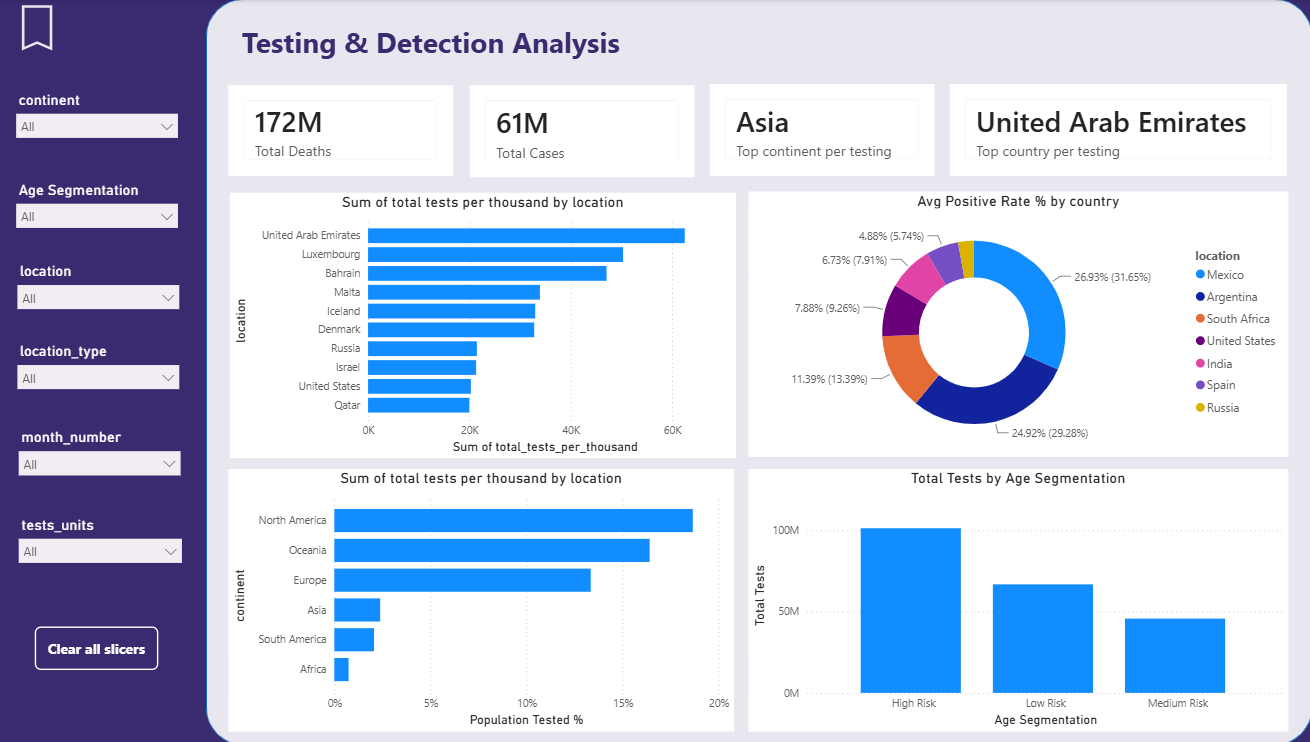

The dashboard page shown, as its layout file describes it:
{"tool":"powerbi","page":{"name":"Testing Analysis ","canvas":[1500,850],"ordinal":4},"visuals":[{"type":"shape","box":[239.3,0,1260.5,850.3],"z":0},{"type":"actionButton","box":[15.7,0,132.5,65.5],"z":1000},{"type":"cardVisual","fields":{"Data":["fact_corona.Total Cases"]},"box":[540.3,98.1,255.7,104.5],"z":2000},{"type":"cardVisual","fields":{"Data":["fact_corona.Total Deaths"]},"box":[265.3,98.1,255.7,102.9],"z":3000},{"type":"textbox","box":[266.2,23.3,458.2,62.5],"z":4000},{"type":"clusteredBarChart","title":"Sum of total tests per thousand by location","fields":{"Category":["dim_country.location"],"Y":["Sum(fact_corona.total_tests_per_thousand)"]},"box":[265.9,220.7,576.9,302.4],"z":5000},{"type":"actionButton","box":[44.2,715,141,49.8],"z":6000},{"type":"donutChart","title":"Avg Positive Rate % by country","fields":{"Category":["dim_country.location"],"Y":["fact_corona.Avg Positive Rate %"]},"box":[856.7,219,615.2,302.4],"z":7000},{"type":"columnChart","fields":{"Category":["dim_demographics.Age Segmentation"],"Y":["fact_corona.Total Tests"]},"box":[857.5,535.4,614.9,299.1],"z":8000},{"type":"cardVisual","fields":{"Data":["dim_country.Top Country"]},"box":[813.7,96.5,255.7,104.5],"z":9000},{"type":"cardVisual","fields":{"Data":["dim_country.Top country"]},"box":[1087.1,96.5,384.3,104.5],"z":10000},{"type":"slicer","fields":{"Values":["dim_country.continent"]},"box":[12.9,99.7,204.2,77.2],"z":11000},{"type":"slicer","fields":{"Values":["dim_demographics.Age Segmentation"]},"box":[12.9,202.6,204.2,77.2],"z":12000},{"type":"slicer","fields":{"Values":["dim_country.location"]},"box":[14.5,294.3,204.2,77.2],"z":13000},{"type":"slicer","fields":{"Values":["dim_country.location_type"]},"box":[14.5,385.9,204.2,77.2],"z":14000},{"type":"slicer","fields":{"Values":["dim_date.month_number"]},"box":[16.1,484,204.2,77.2],"z":15000},{"type":"slicer","fields":{"Values":["fact_corona.tests_units"]},"box":[16.1,583.7,205.8,77.2],"z":16000},{"type":"clusteredBarChart","title":"Sum of total tests per thousand by location","fields":{"Category":["dim_country.continent"],"Y":["fact_corona.Population Tested %"]},"box":[265.3,535.5,575.7,299.1],"z":17000}]}

Visuals, with their boxes in screenshot pixels (x1, y1, x2, y2), scaled from the page's 1500x850 canvas onto the 1310x742 screenshot:
shape: box=[209, 0, 1309, 741]
actionButton: box=[14, 0, 129, 57]
cardVisual - fact_corona.Total Cases: box=[472, 86, 695, 177]
cardVisual - fact_corona.Total Deaths: box=[232, 86, 455, 175]
textbox: box=[232, 20, 633, 75]
"Sum of total tests per thousand by location" clusteredBarChart: box=[232, 193, 736, 457]
actionButton: box=[39, 624, 162, 668]
"Avg Positive Rate % by country" donutChart: box=[748, 191, 1285, 455]
columnChart - dim_demographics.Age Segmentation x fact_corona.Total Tests: box=[749, 467, 1286, 728]
cardVisual - dim_country.Top Country: box=[711, 84, 934, 175]
cardVisual - dim_country.Top country: box=[949, 84, 1285, 175]
slicer - dim_country.continent: box=[11, 87, 190, 154]
slicer - dim_demographics.Age Segmentation: box=[11, 177, 190, 244]
slicer - dim_country.location: box=[13, 257, 191, 324]
slicer - dim_country.location_type: box=[13, 337, 191, 404]
slicer - dim_date.month_number: box=[14, 423, 192, 490]
slicer - fact_corona.tests_units: box=[14, 510, 194, 577]
"Sum of total tests per thousand by location" clusteredBarChart: box=[232, 467, 734, 729]
